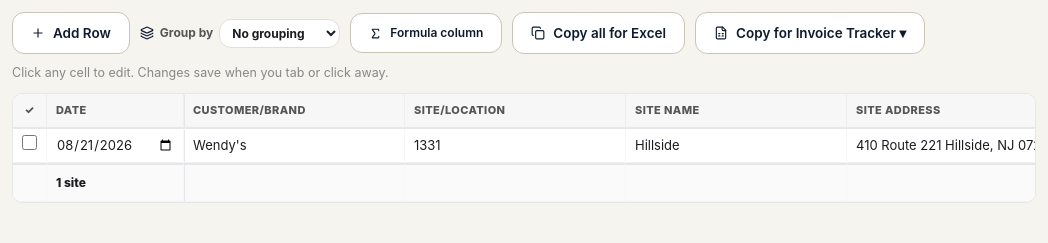
it: Site Sheet board › offers to clear the sort only once something is sorted
expect the button "clear sort" is not shown: met
Click the column heading "Site Name" at (736, 111), box [626,94,847,128]
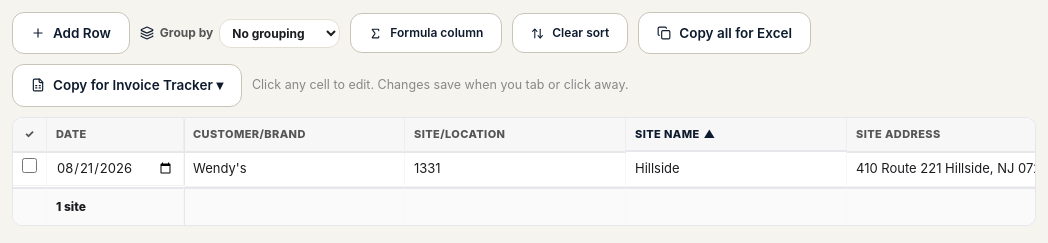
expect the button "Clear sort" is shown: met, box [512,13,628,53]
